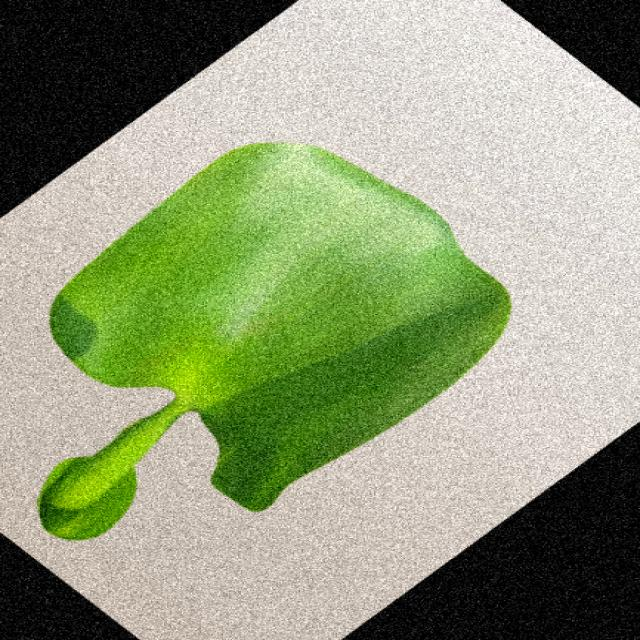daun sehat: (39, 142, 508, 539)
